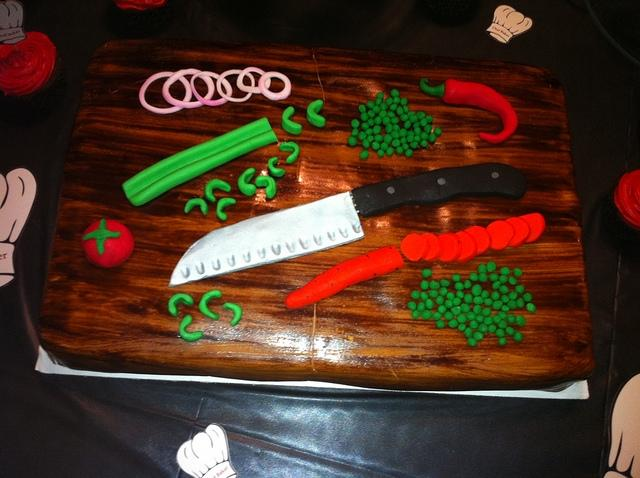carrot: (285, 246, 405, 310), (486, 220, 515, 251), (455, 232, 476, 264)
celery: (122, 116, 278, 206), (204, 178, 232, 204), (198, 290, 222, 319), (168, 293, 194, 317), (180, 315, 203, 342), (282, 106, 302, 135), (306, 100, 326, 128), (238, 166, 256, 196), (255, 176, 277, 200), (222, 302, 242, 326), (279, 142, 300, 163), (216, 198, 236, 220), (184, 198, 208, 215), (268, 156, 286, 178)
onion: (162, 68, 215, 108), (139, 71, 184, 114), (190, 71, 232, 106), (258, 72, 292, 101), (237, 68, 270, 94)
pea: (383, 134, 392, 144), (473, 304, 482, 314), (386, 123, 393, 134), (391, 118, 399, 124)
tomato: (80, 218, 134, 268)
